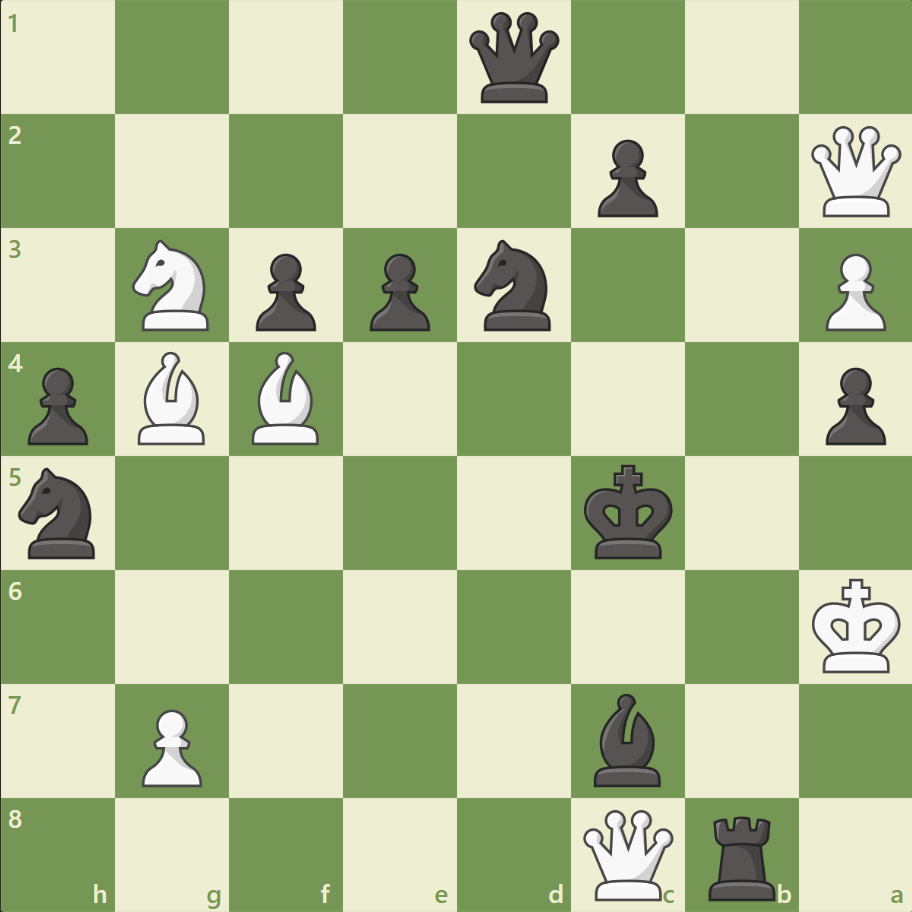B: (244, 347, 328, 449), (131, 347, 215, 449)
K: (806, 571, 906, 679)
N: (124, 234, 222, 337)
P: (133, 700, 208, 791), (815, 246, 889, 337)
Q: (805, 122, 904, 222), (578, 804, 677, 903)
b: (585, 687, 669, 790)
k: (579, 458, 679, 566)
n: (11, 461, 108, 564), (465, 234, 562, 337)
p: (20, 359, 95, 450), (247, 246, 322, 337), (815, 359, 889, 450), (361, 246, 435, 337), (588, 132, 662, 223)
q: (464, 9, 563, 108)
r: (700, 806, 783, 904)
